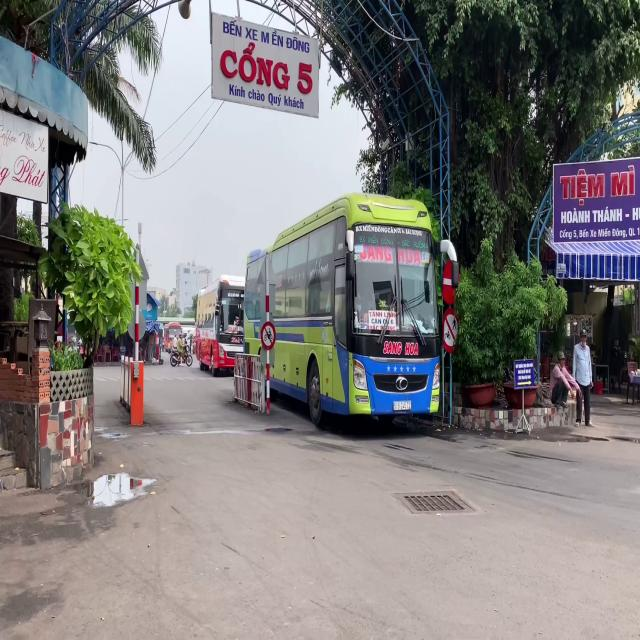bien_trang: (393, 400, 412, 411)
